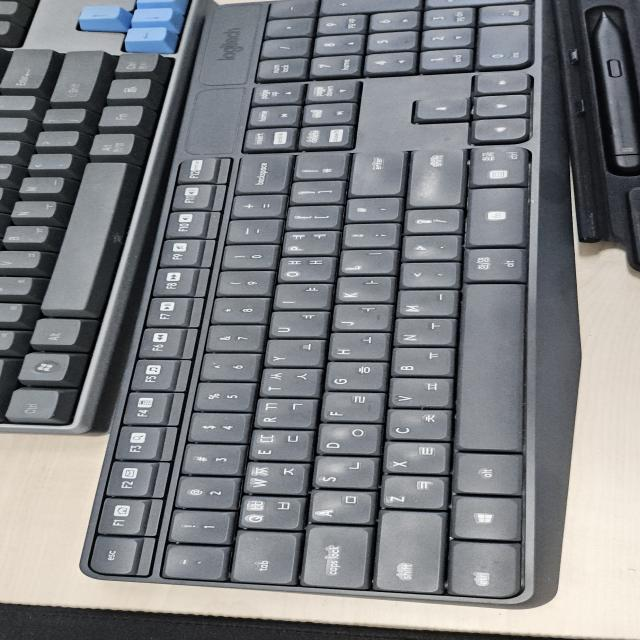Keyboard: (3, 1, 633, 614)
